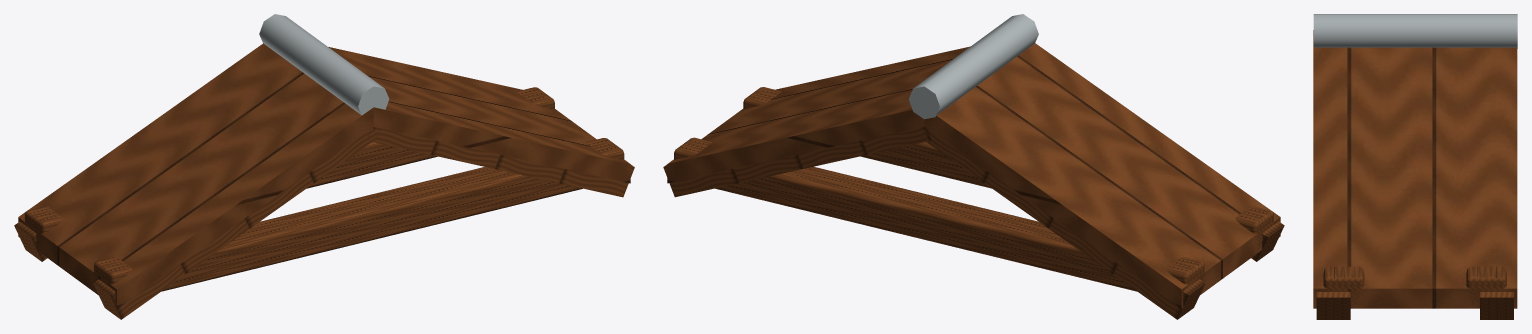
File: rural-scavenging-settlements-village-bulletin-roof-8e6a8a4d__26599.glb
3 renders of one model, left to right at view 1: azimuth 30°, elevation 25°; view 2: azimuth 150°, elevation 25°; view 3: azimuth 270°, elevation 25°, orthographic. The views are drawn at different scales.
Visible parts, largest first — view 1: village-bulletin-roof; view 2: village-bulletin-roof; view 3: village-bulletin-roof.
Boxes of the visible parts, bbox=[...] form: village-bulletin-roof: bbox=[14, 14, 634, 319]; village-bulletin-roof: bbox=[663, 14, 1284, 319]; village-bulletin-roof: bbox=[1313, 14, 1517, 319].
Bounding box in the file's own units: 1.84 × 0.5807 × 0.6012.
2 materials, 1 textured.
